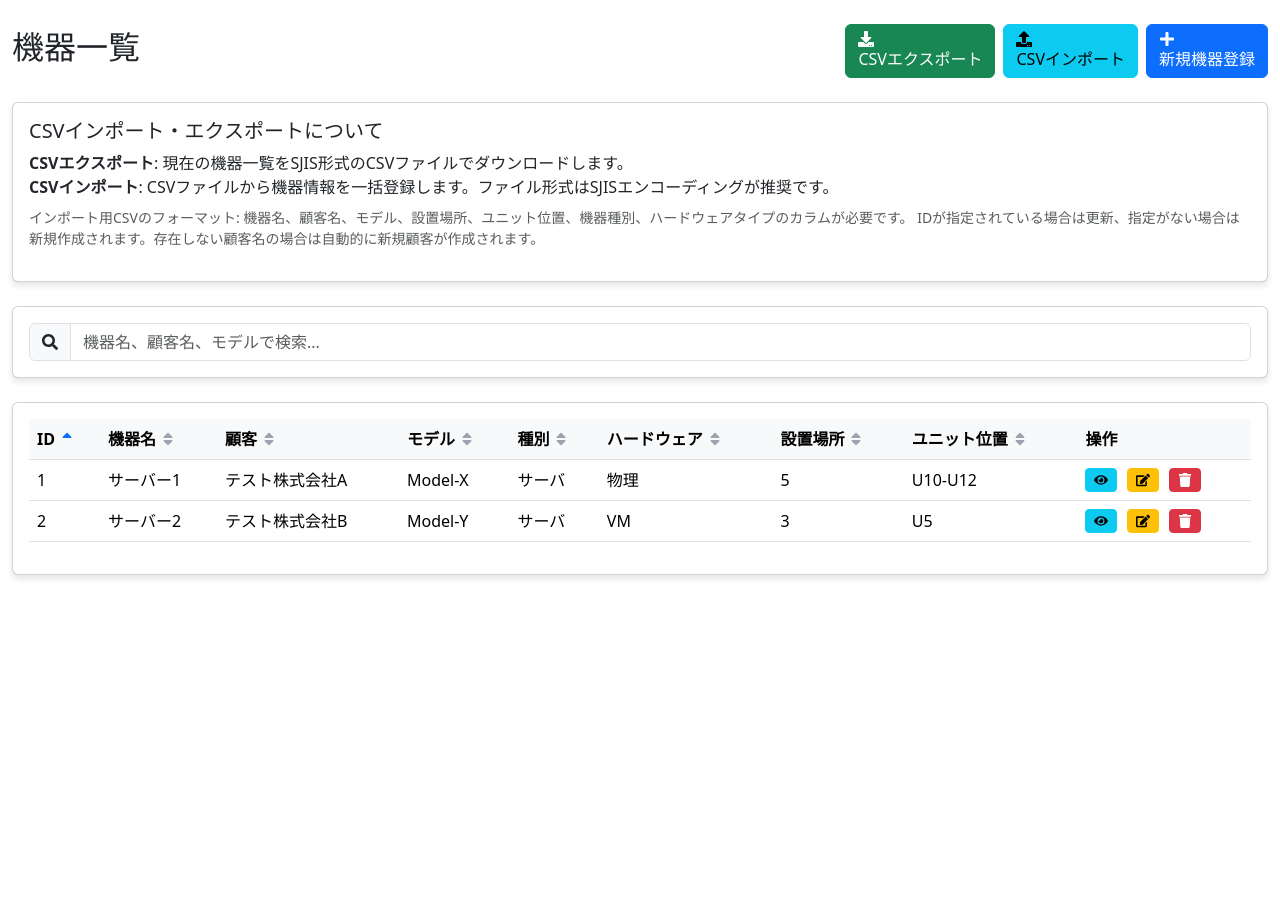
Test: DeviceList Component › opens delete modal when delete button is clicked
The image size is (1280, 900).
// 削除ボタンをクリック
What coordinates should you click on to do the following:
click the button titled "削除" in the row of "サーバー1"
I would click on:
 (1185, 480)
Its box is [1169,468,1201,492].
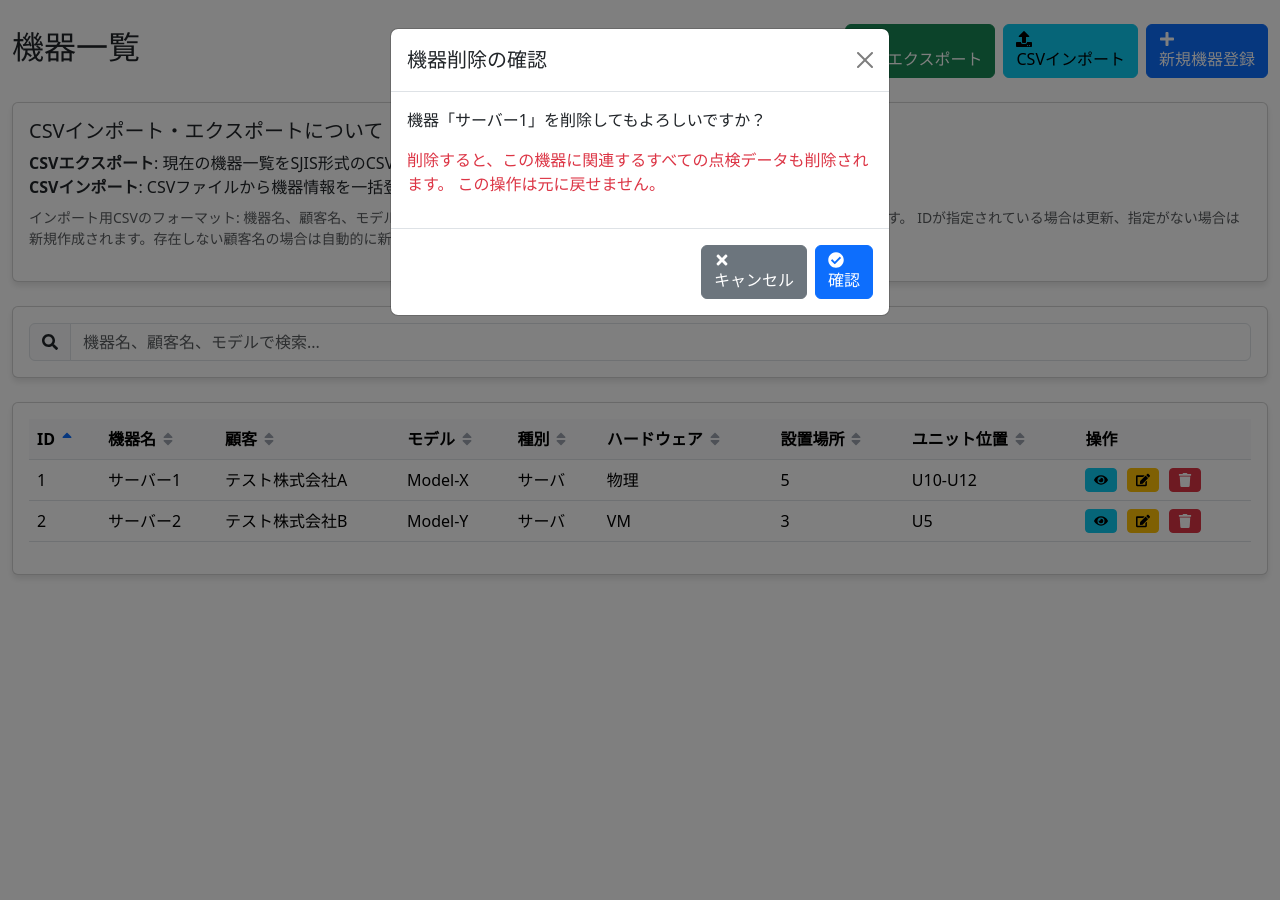
Result: the heading "機器削除の確認" is shown at [407,45,547,75]
Result: the text "削除すると、この機器に関連するすべての点検データも削除されます。 この操作は元に戻せません。" is shown at [407,148,873,196]
